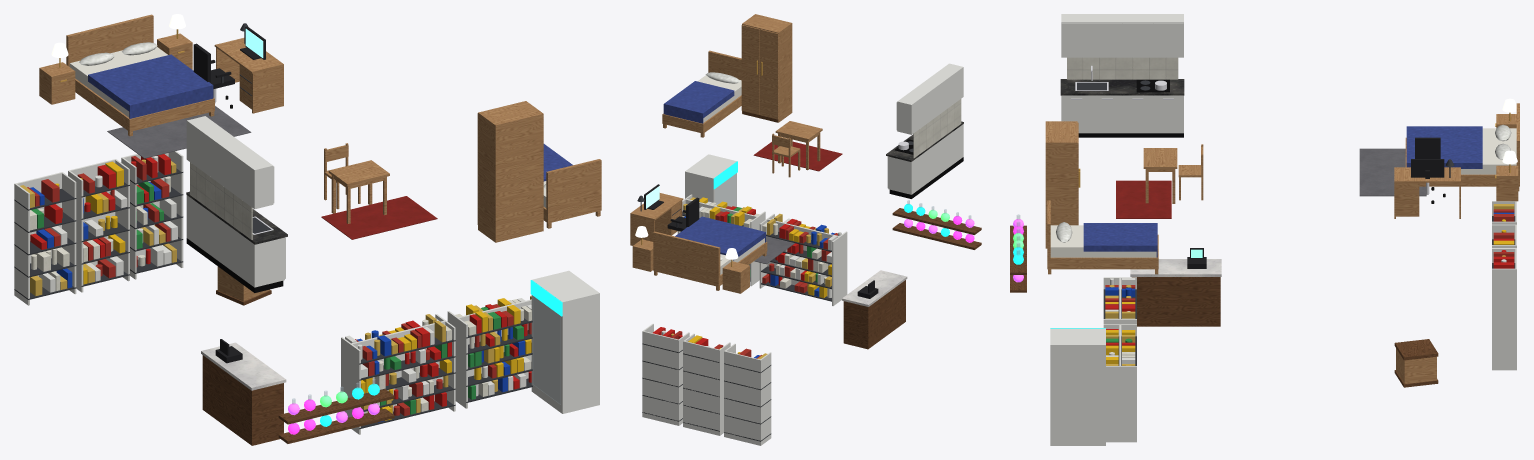
The model's file is i_potion_shop.gltf.
The picture shows the model from 3 angles, left to right: view 1: azimuth 30°, elevation 25°; view 2: azimuth 150°, elevation 25°; view 3: azimuth 270°, elevation 25°; orthographic projection. The views are drawn at different scales.
Parts seen in each view (by area): view 1: I_potion_shop; view 2: I_potion_shop; view 3: I_potion_shop.
Part boxes in pixels (x1,y1,x2,y2): I_potion_shop: [14, 14, 601, 445]; I_potion_shop: [630, 14, 981, 445]; I_potion_shop: [1010, 14, 1519, 445].
Bounding box in the file's own units: 6.35 × 5.6 × 9.15.
33 materials, 10 textured.
